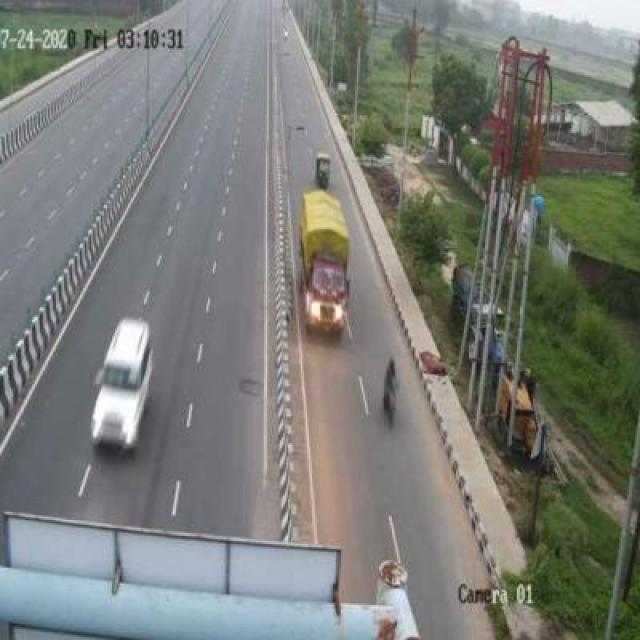car: (379, 350, 416, 430)
